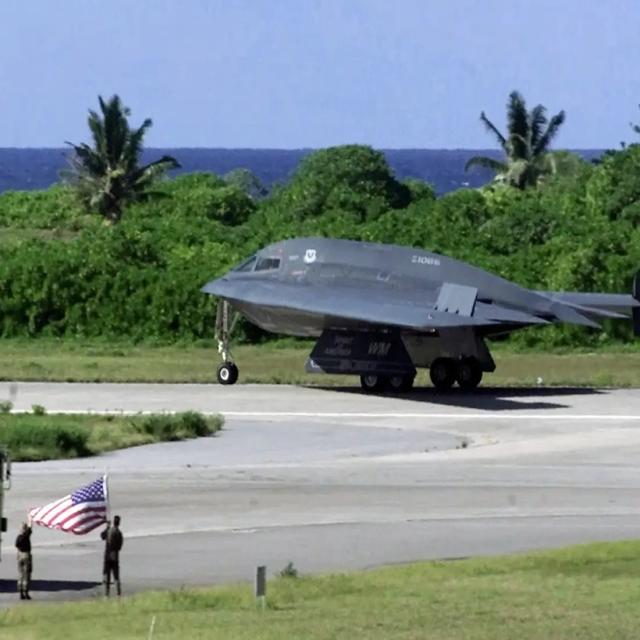MIL_Plane: (199, 234, 640, 393)
